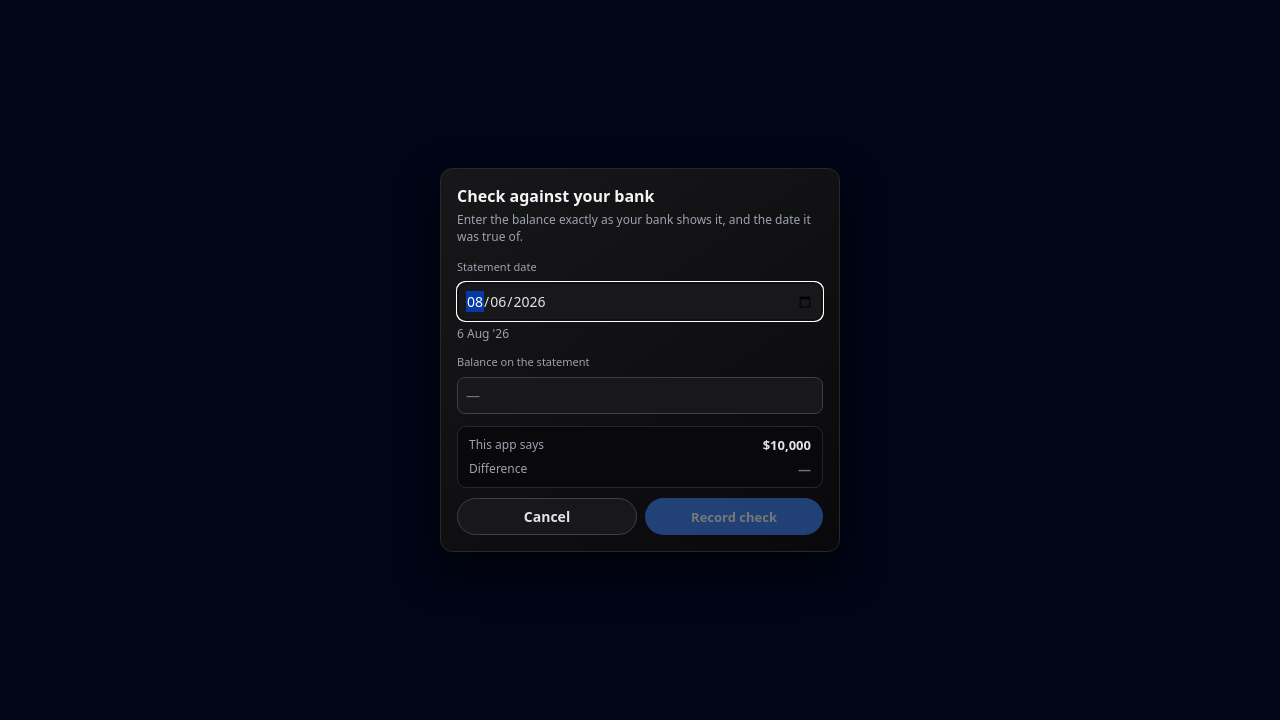
Scenario: RealityCheckModal › compares live, before anything is saved
Type "9,400" into the field named "Statement amount" at {"x": 640, "y": 396}, box left=457, top=377, right=823, bottom=414
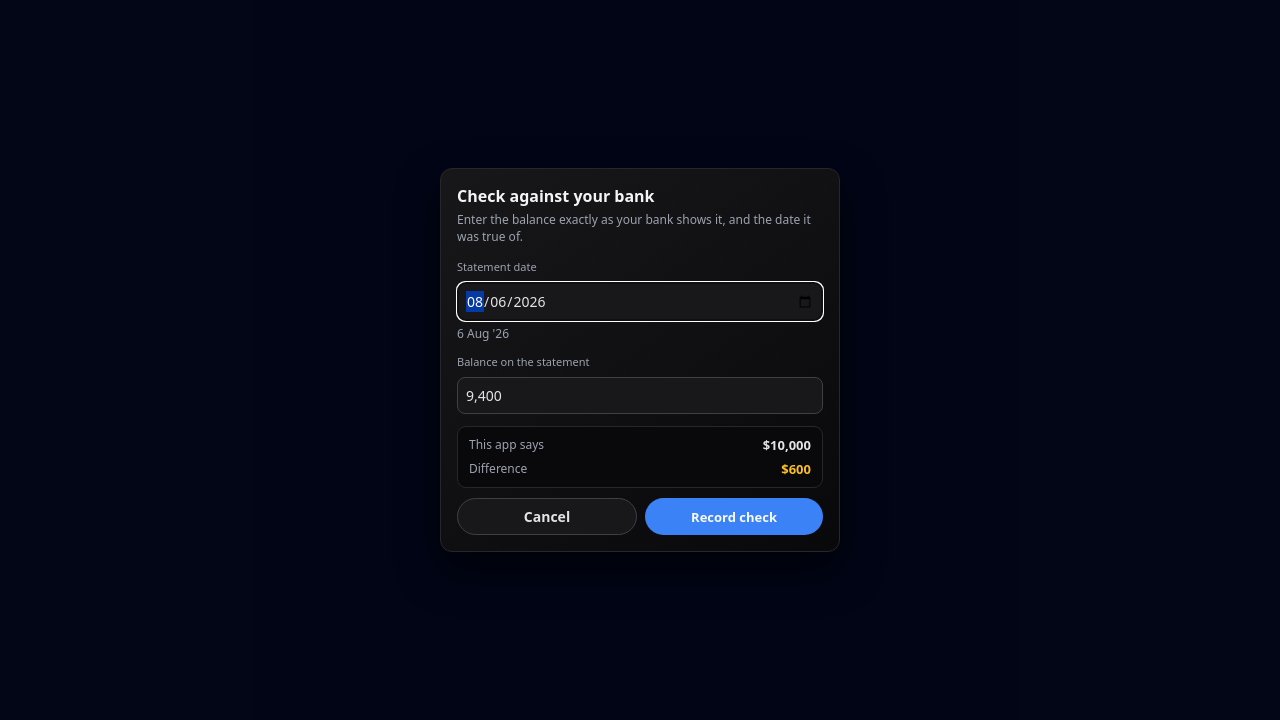
Result: the text with test id "reality-difference" reads "$600" at left=781, top=460, right=811, bottom=478
